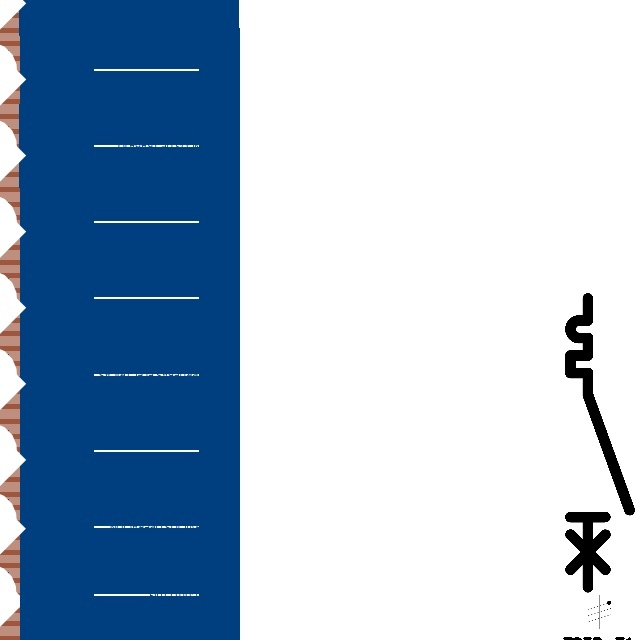interruptor_termomagnetico: (563, 291, 637, 594)
